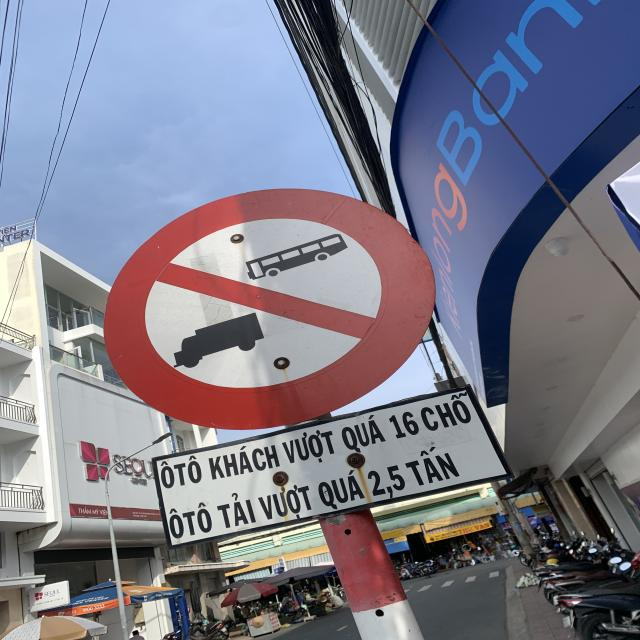Cam_XeTai_XeKhach: (103, 188, 433, 430)
